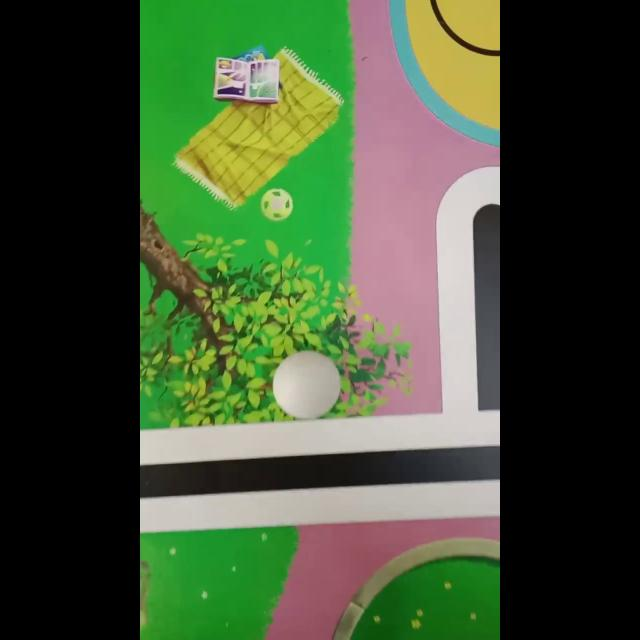white ball: (271, 349, 341, 419)
